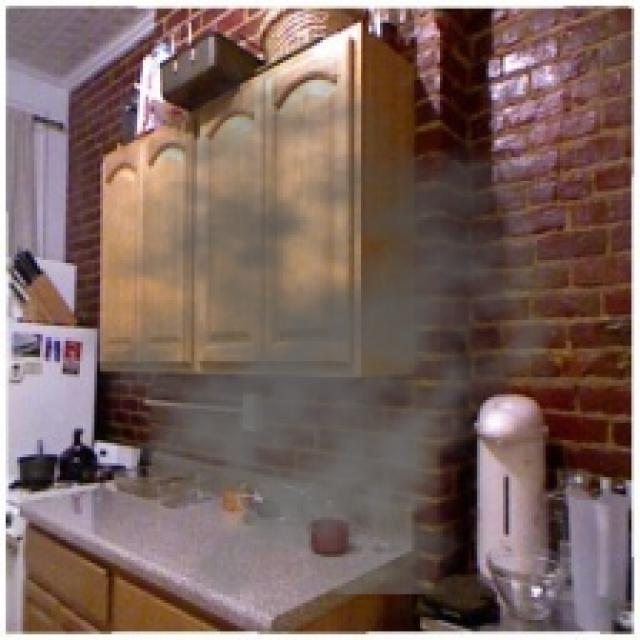Smoke: (43, 66, 583, 594)
